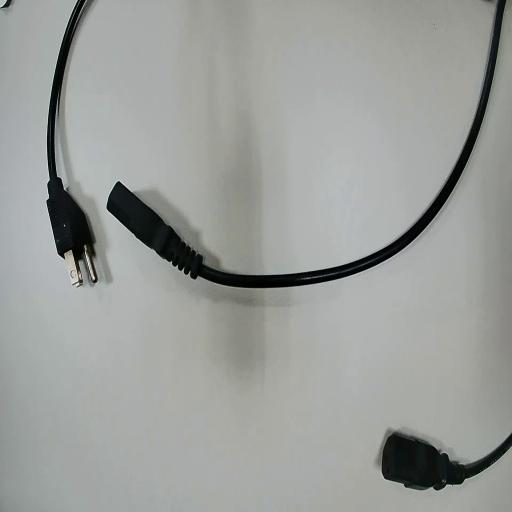wire: (108, 0, 505, 287), (48, 0, 94, 268), (382, 433, 511, 488)
